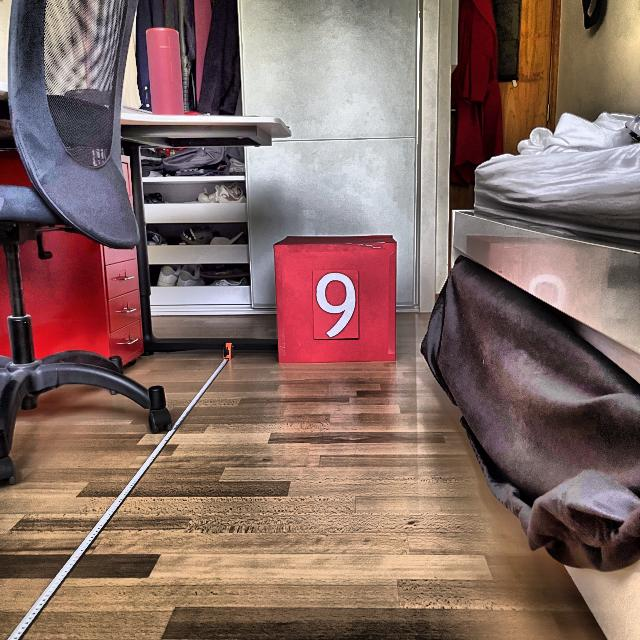nine: (316, 272, 356, 338)
red box: (274, 234, 399, 364)
